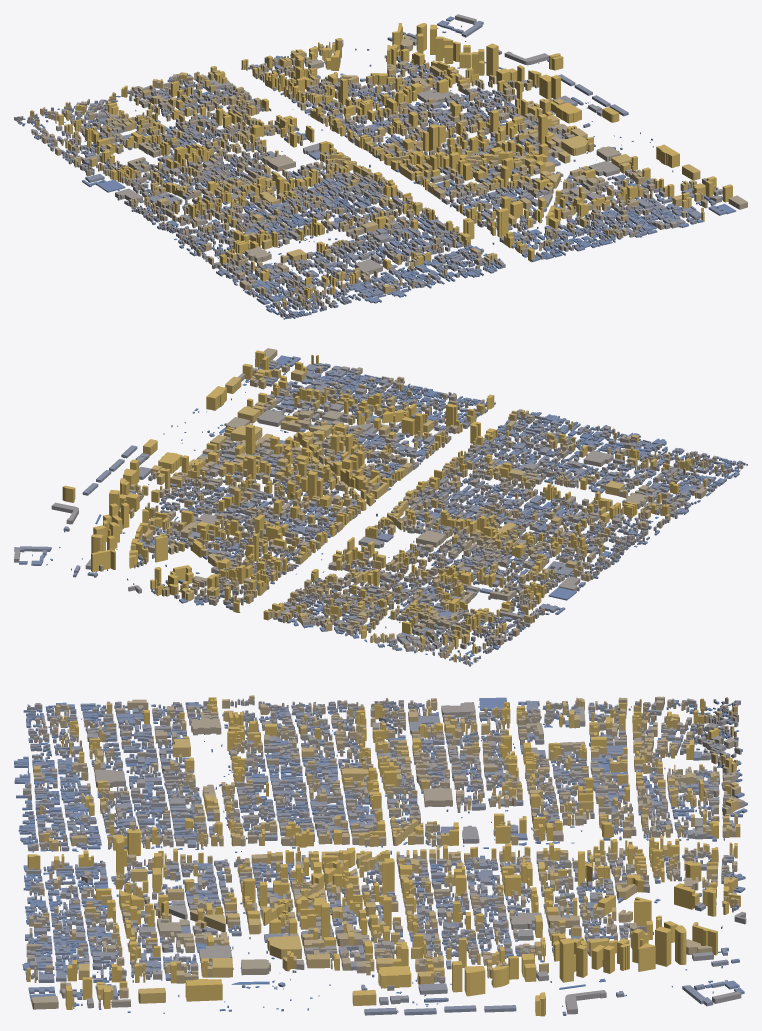
The model's file is buildings.glb.
3 views of the same model, one above another, from view 1: azimuth 30°, elevation 25°; view 2: azimuth 150°, elevation 25°; view 3: azimuth 270°, elevation 25° (orthographic). The views are drawn at different scales.
Parts seen in each view (by area): view 1: buildings; view 2: buildings; view 3: buildings.
Part boxes in pixels (x1,y1,x2,y2): buildings: (14,14,747,319); buildings: (14,348,747,666); buildings: (14,695,747,1016).
Size of the model in its own units: 2678 by 194 by 2687.
